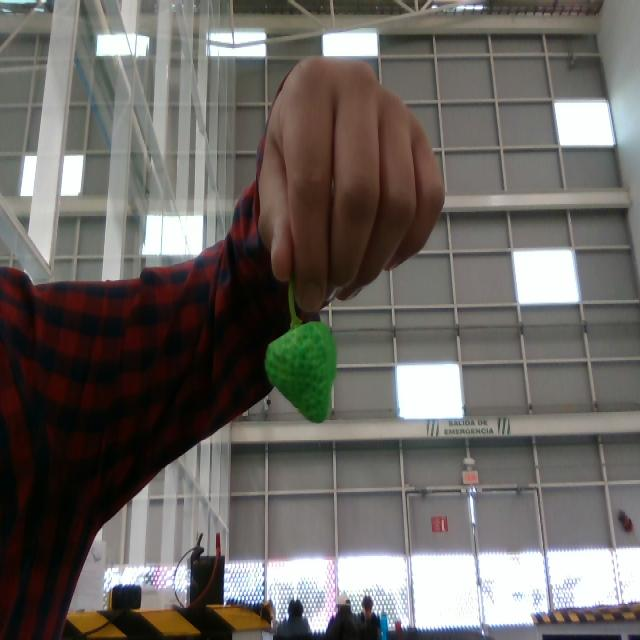verde: (266, 320, 338, 422)
